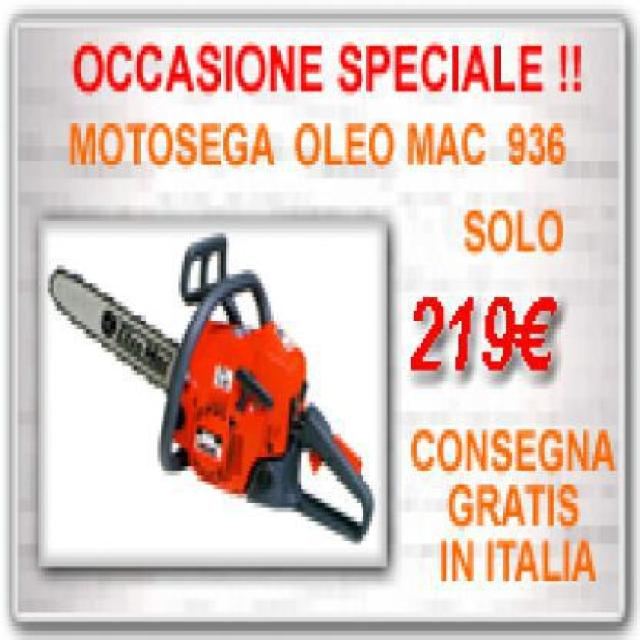Chainsaw: (40, 228, 380, 552)
